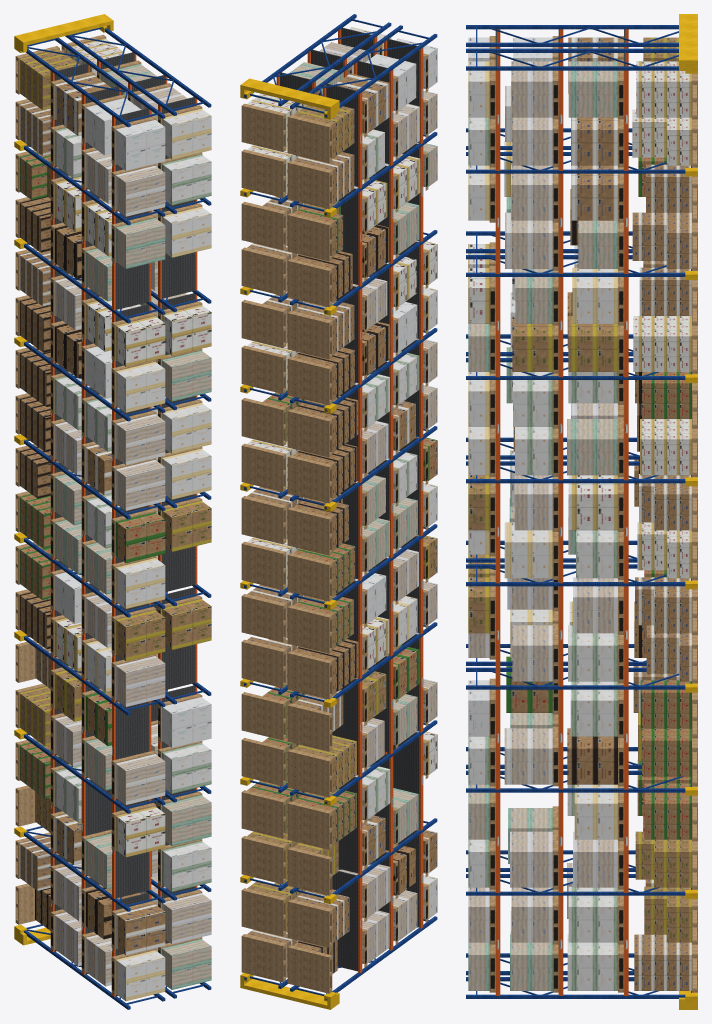
Rendered from racks_w2_s.gltf.
3 renders of one model, left to right at view 1: azimuth 30°, elevation 25°; view 2: azimuth 150°, elevation 25°; view 3: azimuth 270°, elevation 25°, orthographic. The views are drawn at different scales.
Visible parts, largest first — view 1: racks_w2_s; view 2: racks_w2_s; view 3: racks_w2_s.
Boxes of the visible parts, <box> form: racks_w2_s: <box>14,14,211,1009</box>; racks_w2_s: <box>240,14,437,1009</box>; racks_w2_s: <box>466,14,697,1009</box>.
Size of the model in its own units: 2.6 by 24.86 by 5.5.
19 materials, 19 textured.
